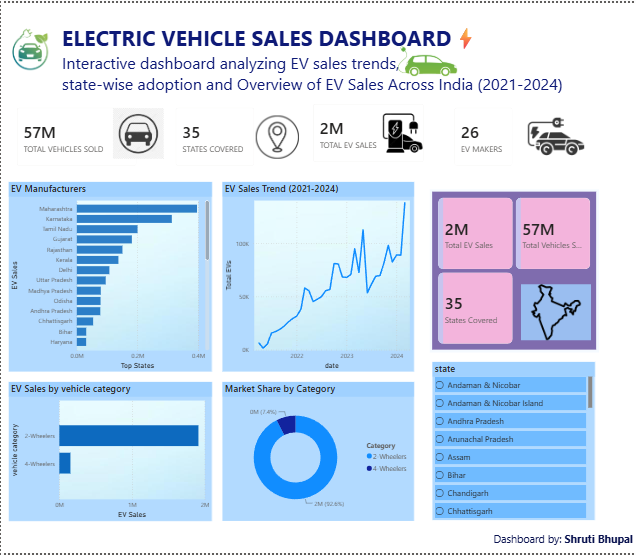

The page's visual inventory and layout, read from the dashboard file:
{"tool":"powerbi","page":{"name":"Page 1","canvas":[1270,1100],"ordinal":0},"visuals":[{"type":"clusteredBarChart","title":" EV Manufacturers","fields":{"Y":["Sum(electric_vehicle_sales_by_state.electric_vehicles_sold)"],"Category":["electric_vehicle_sales_by_state.state"]},"box":[15,356.7,406.7,380],"z":0},{"type":"clusteredBarChart","fields":{"Y":["Sum(electric_vehicle_sales_by_state.electric_vehicles_sold)"],"Category":["electric_vehicle_sales_by_state.vehicle_category"]},"box":[15,756.7,406.7,278.3],"z":1000},{"type":"lineChart","title":"EV Sales Trend (2021-2024)","fields":{"Category":["dim_date.date"],"Y":["Sum(electric_vehicle_sales_by_makers.electric_vehicles_sold)"]},"box":[443.3,356.7,383.3,380],"z":2000},{"type":"donutChart","fields":{"Category":["electric_vehicle_sales_by_state.vehicle_category"],"Y":["Sum(electric_vehicle_sales_by_state.electric_vehicles_sold)"]},"box":[443.3,756.7,383.3,278.3],"z":3000},{"type":"listSlicer","fields":{"Values":["electric_vehicle_sales_by_state.state"]},"box":[863.3,718.3,325,316.7],"z":4000},{"type":"cardVisual","fields":{"Data":["Sum(electric_vehicle_sales_by_state.electric_vehicles_sold)","Sum(electric_vehicle_sales_by_state.total_vehicles_sold)","Count(electric_vehicle_sales_by_state.state)"]},"box":[856.7,371.7,338.3,326.7],"z":5000},{"type":"image","box":[980,40,154.3,101.4],"z":6000},{"type":"image","box":[1040,210,140,113.3],"z":7000},{"type":"textbox","box":[116.7,35,1483.3,150],"z":8000},{"type":"cardVisual","fields":{"Data":["Count(electric_vehicle_sales_by_state.state)"]},"box":[333.3,193.3,191.7,150],"z":9000},{"type":"cardVisual","fields":{"Data":["Sum(electric_vehicle_sales_by_state.total_vehicles_sold)"]},"box":[15,193.3,273.3,150],"z":10000},{"type":"cardVisual","fields":{"Data":["Sum(electric_vehicle_sales_by_makers.electric_vehicles_sold)"]},"box":[606.7,185,255,150],"z":11000},{"type":"cardVisual","fields":{"Data":["Count(electric_vehicle_sales_by_makers.maker)"]},"box":[890,193.3,150,150],"z":12000},{"type":"image","box":[218.3,210,115,101.7],"z":13000},{"type":"image","box":[741.7,185,121.7,150],"z":14000},{"type":"image","box":[0,0,116.7,185],"z":15000},{"type":"image","box":[708.3,40,308.3,161.7],"z":16000},{"type":"image","box":[496.7,225,110,86.7],"z":17000},{"type":"image","box":[1040,563.3,140,111.7],"z":18000},{"type":"textbox","box":[980,1053.3,290,46.7],"z":19000}]}

Visuals, with their boxes in screenshot pixels (x1, y1, x2, y2), scaled from the page's 1270x1100 canvas onto the 636x555 screenshot:
" EV Manufacturers" clusteredBarChart: 8:180:211:372
clusteredBarChart - Sum(electric_vehicle_sales_by_state.electric_vehicles_sold) x electric_vehicle_sales_by_state.vehicle_category: 8:382:211:522
"EV Sales Trend (2021-2024)" lineChart: 222:180:414:372
donutChart - electric_vehicle_sales_by_state.vehicle_category x Sum(electric_vehicle_sales_by_state.electric_vehicles_sold): 222:382:414:522
listSlicer - electric_vehicle_sales_by_state.state: 432:362:595:522
cardVisual - Sum(electric_vehicle_sales_by_state.electric_vehicles_sold) x Sum(electric_vehicle_sales_by_state.total_vehicles_sold): 429:188:598:352
image: 491:20:568:71
image: 521:106:591:163
textbox: 58:18:635:93
cardVisual - Count(electric_vehicle_sales_by_state.state): 167:98:263:173
cardVisual - Sum(electric_vehicle_sales_by_state.total_vehicles_sold): 8:98:144:173
cardVisual - Sum(electric_vehicle_sales_by_makers.electric_vehicles_sold): 304:93:432:169
cardVisual - Count(electric_vehicle_sales_by_makers.maker): 446:98:521:173
image: 109:106:167:157
image: 371:93:432:169
image: 0:0:58:93
image: 355:20:509:102
image: 249:114:304:157
image: 521:284:591:341
textbox: 491:531:635:554
